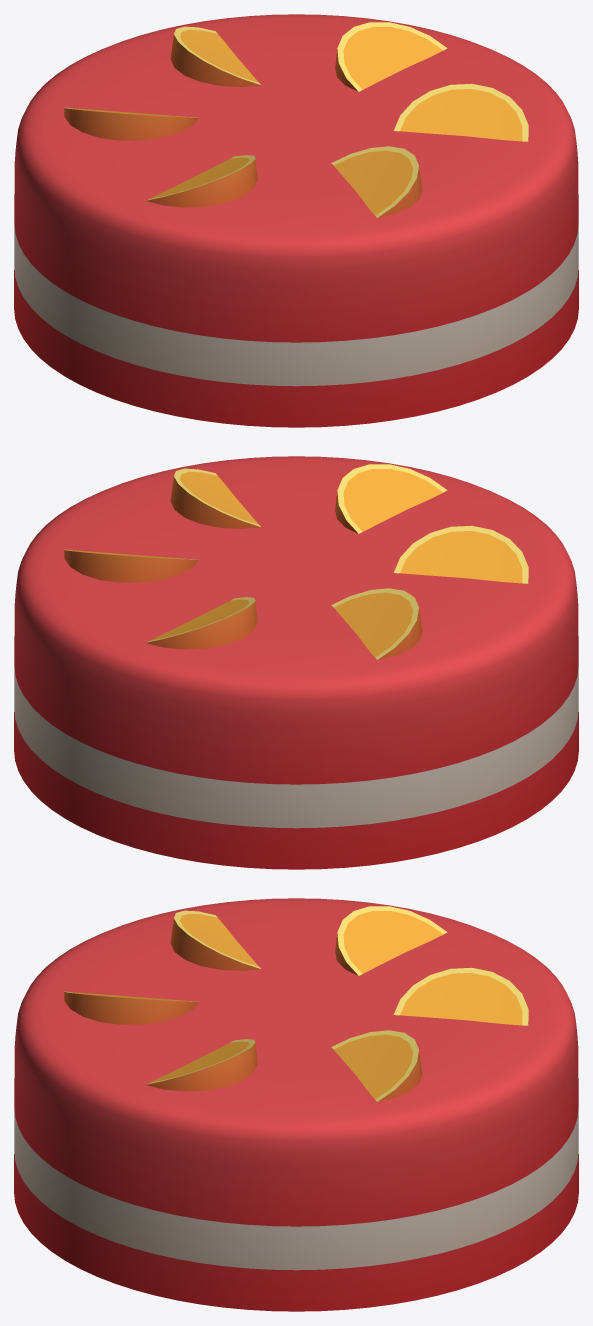
File: cake09.FBX
The picture shows the model from 3 angles, top to bottom: view 1: azimuth 30°, elevation 25°; view 2: azimuth 150°, elevation 25°; view 3: azimuth 270°, elevation 25°; orthographic projection.
Visible parts, largest first — view 1: cake09; view 2: cake09; view 3: cake09.
Part boxes in pixels (x1=…): cake09: x1=14, y1=14, x2=578, y2=427; cake09: x1=14, y1=456, x2=578, y2=869; cake09: x1=14, y1=898, x2=578, y2=1311.
Bounding box in the file's own units: 0.0193 × 0.0079 × 0.0193.
